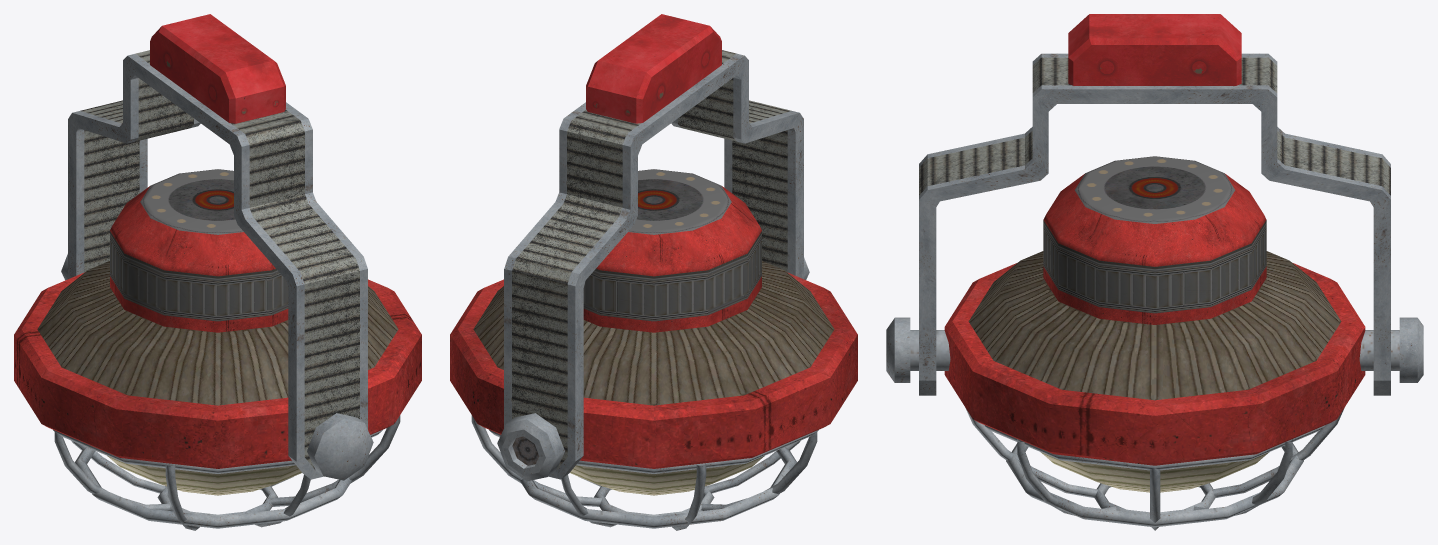
Rendered from Ob_HangingLight_RC.fbx.
3 renders of one model, left to right at view 1: azimuth 30°, elevation 25°; view 2: azimuth 150°, elevation 25°; view 3: azimuth 270°, elevation 25°, orthographic. The views are drawn at different scales.
Parts seen in each view (by area): view 1: Ob_HangingLight_RC; view 2: Ob_HangingLight_RC; view 3: Ob_HangingLight_RC.
Part boxes in pixels (box(x1,y1,x2,y2)): Ob_HangingLight_RC: box(14, 14, 421, 530); Ob_HangingLight_RC: box(450, 14, 857, 530); Ob_HangingLight_RC: box(886, 14, 1423, 530).
Bounding box in the file's own units: 311 × 388 × 398.
